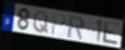1: (94, 19, 104, 44)
8: (16, 7, 31, 32)
E: (102, 20, 121, 47)
P: (50, 12, 67, 36)
Q: (32, 10, 49, 35)
R: (67, 14, 85, 41)
